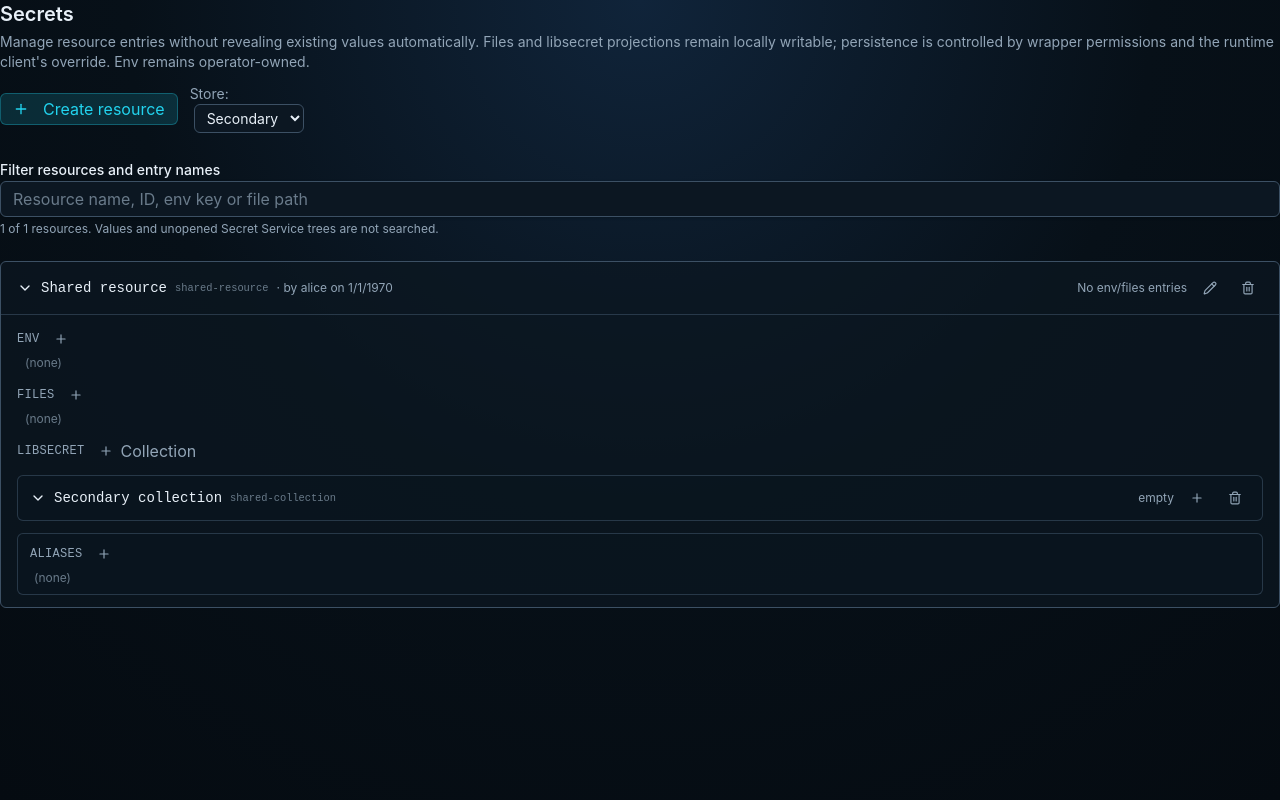
it: remounts Secrets resource state before cached same-id libsecret data can rebind across stores
The width and height of the screenshot is (1280, 800).
Later steps or results of the test are not shown.
Expected: the text "Secondary collection" is shown, [54, 488, 222, 508]
Click the button named "Delete collection Secondary collection".
click(1235, 498)  # box [1220, 484, 1250, 512]
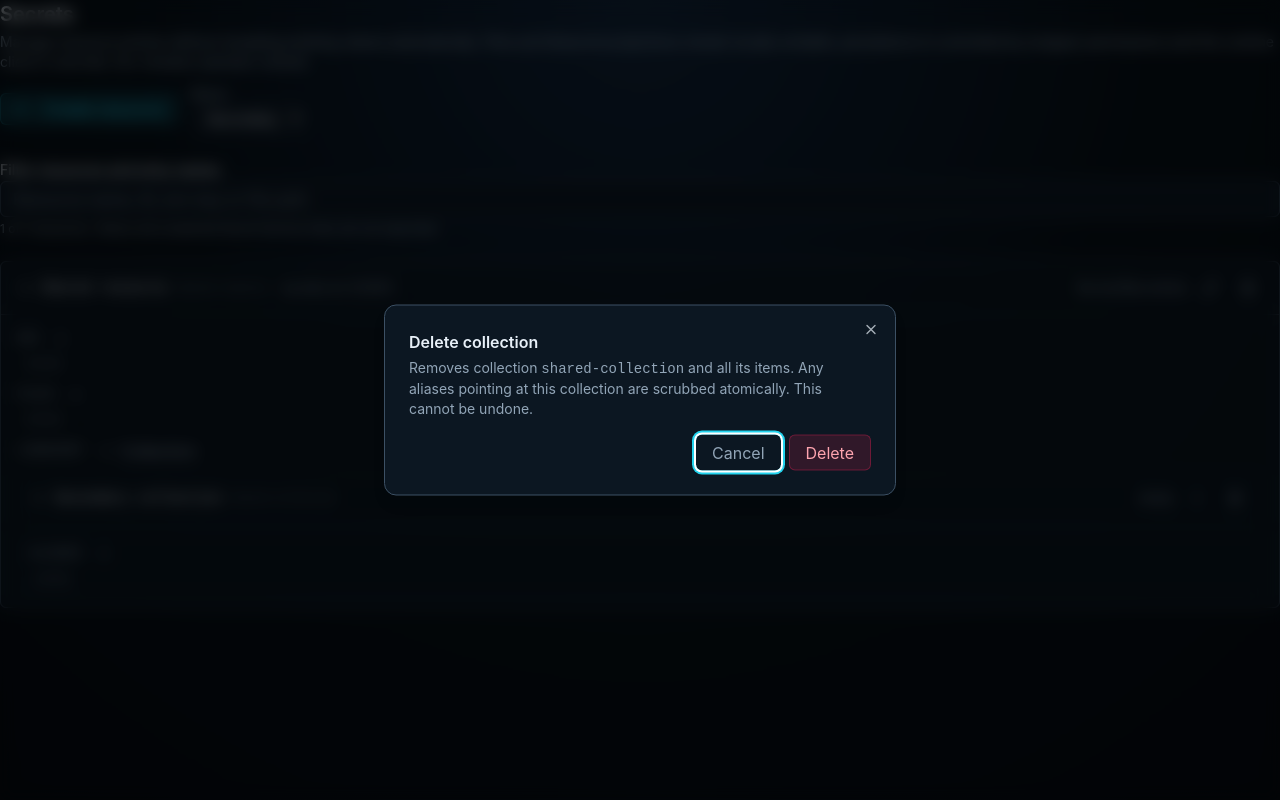
Result: the dialog "Delete collection" is shown at [384, 304, 896, 496]
